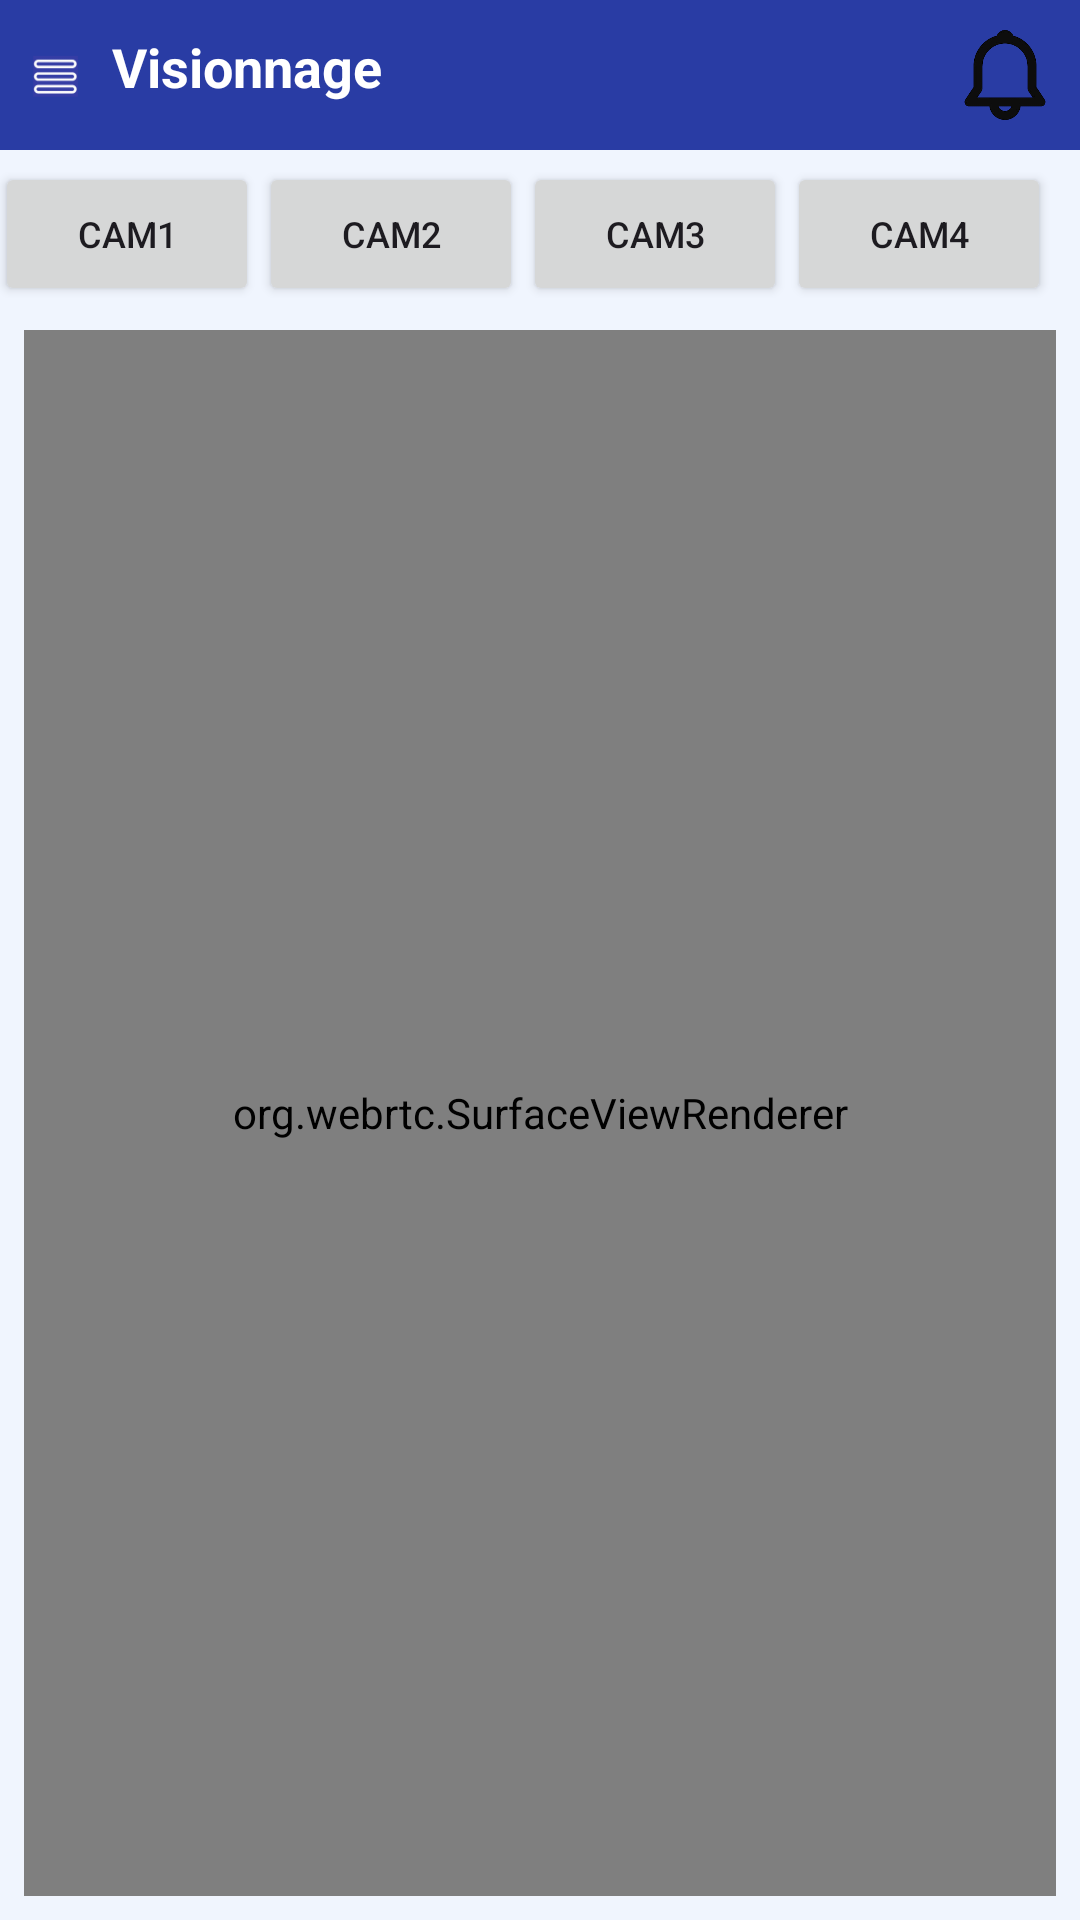

Named icons in this screenshot (1080 × 1920) and their centers, point (x, y):
menu: point (55, 76)
notifications: point (1005, 75)
